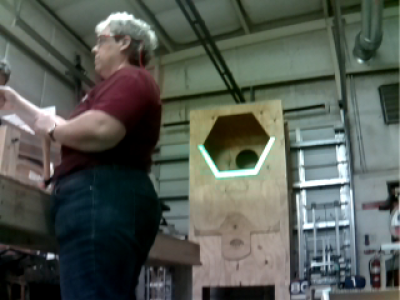target: (198, 137, 277, 177)
